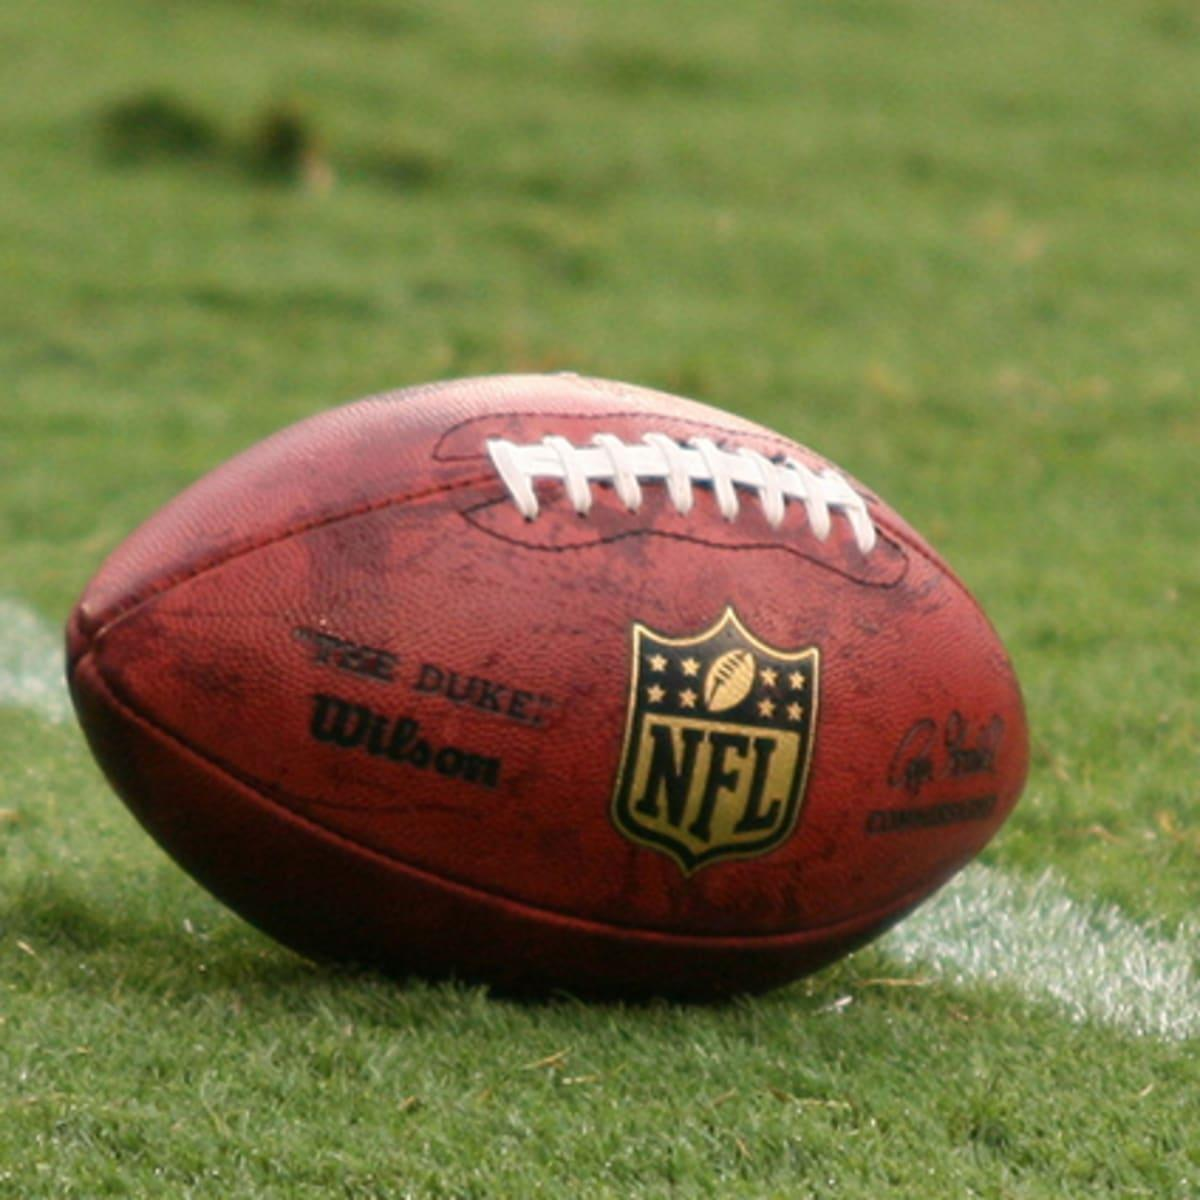Sports-Ball: (70, 375, 1026, 996)
